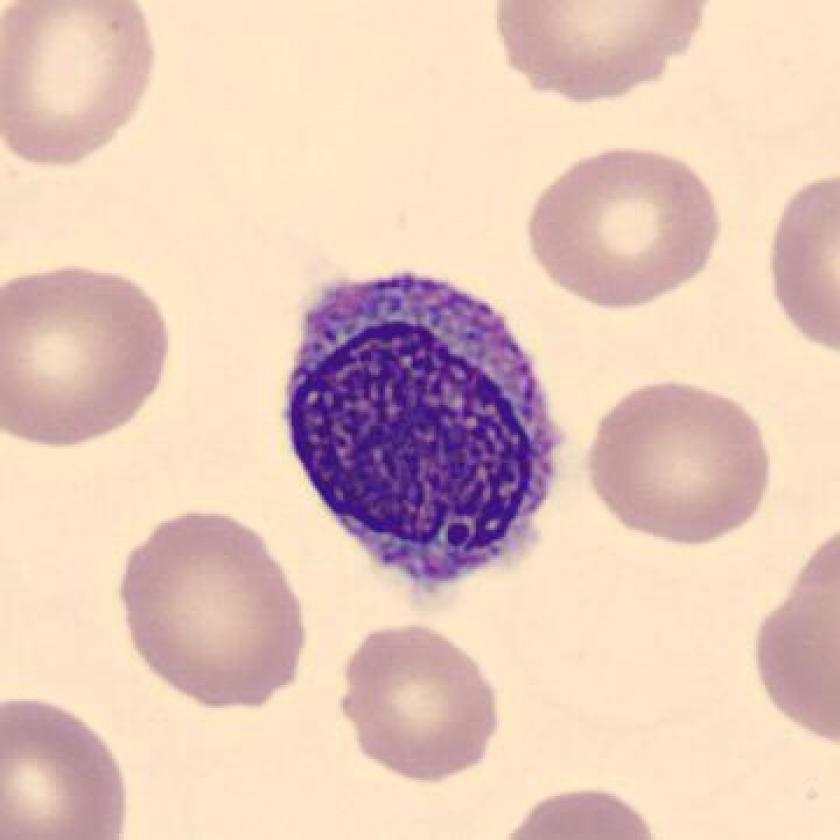monocyte: (256, 246, 592, 619)
